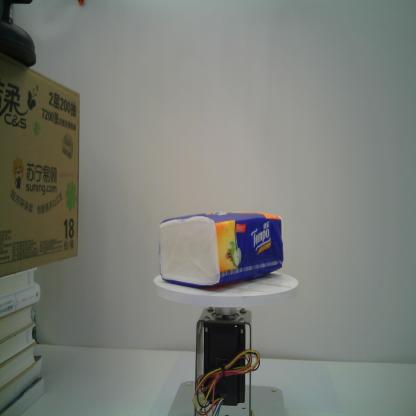Tissue: (158, 210, 284, 288)
